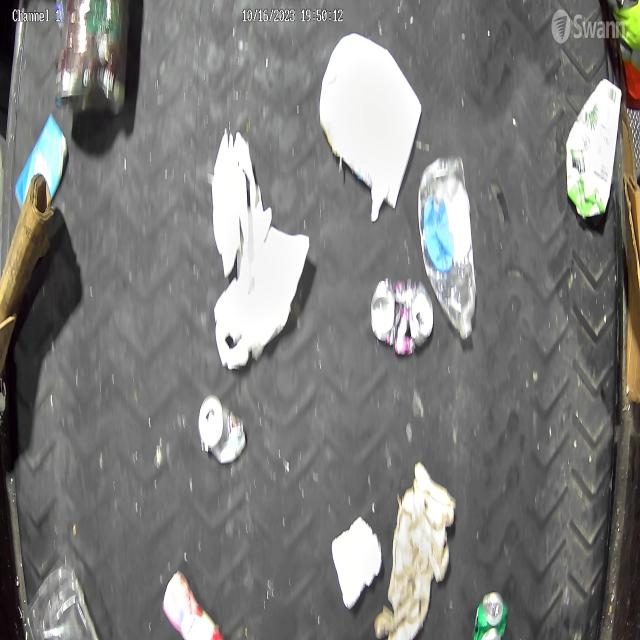can: (54, 0, 130, 116), (370, 276, 434, 358), (198, 395, 248, 465), (472, 590, 509, 640)
plastic_bottle: (417, 155, 477, 341)
